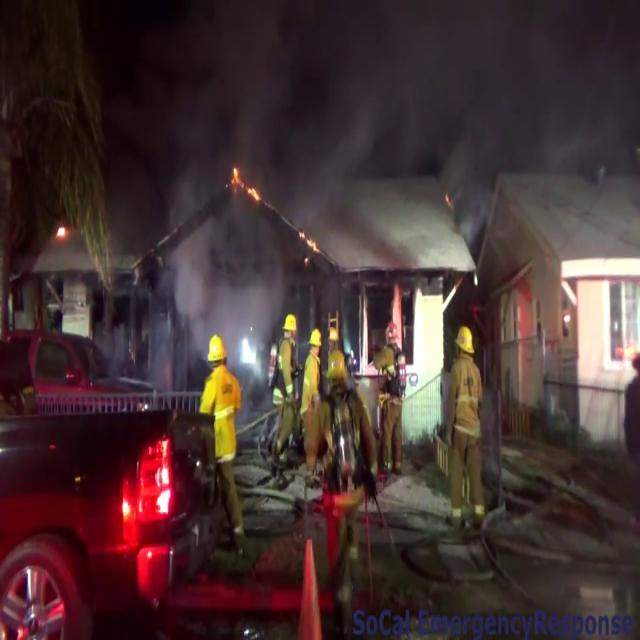Smoke: (182, 0, 640, 252), (150, 175, 306, 366)
